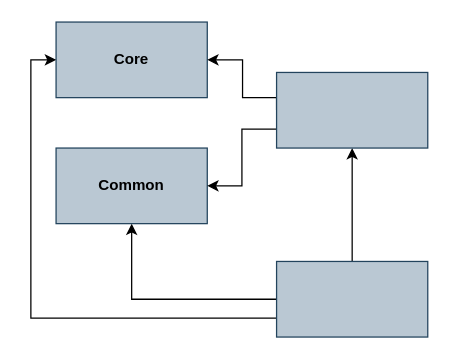
Some shapes in this 450 by 359 pixel diagram are drawn without their labels. The shapes that lost their labels are listed below. From the top down, each one's centre as x and y in pixels, then its label:
At (x=351, y=109): "Graphics".
At (x=351, y=298): "Tool".
